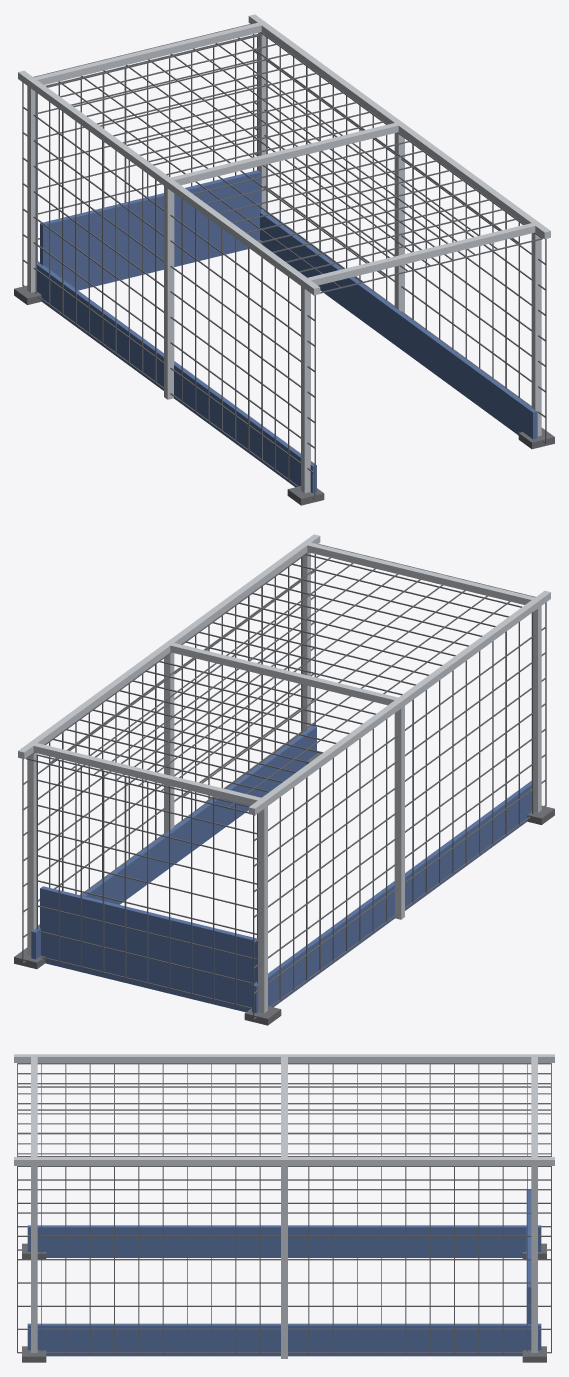
File: baseball-park-and-batting-cages-batting-cage-frame-20af7e19__33758.glb
3 views of the same model, one above another, from view 1: azimuth 30°, elevation 25°; view 2: azimuth 150°, elevation 25°; view 3: azimuth 270°, elevation 25° (orthographic). The views are drawn at different scales.
Parts seen in each view (by area): view 1: batting-cage-frame; view 2: batting-cage-frame; view 3: batting-cage-frame.
Boxes of the visible parts, x1,y1,x2,y2 form: batting-cage-frame: [14, 14, 554, 505]; batting-cage-frame: [14, 534, 554, 1025]; batting-cage-frame: [14, 1054, 554, 1362].
Bounding box in the file's own units: 3.96 × 3.25 × 8.
